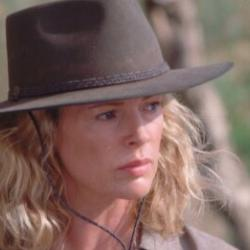face: (3, 82, 225, 243)
